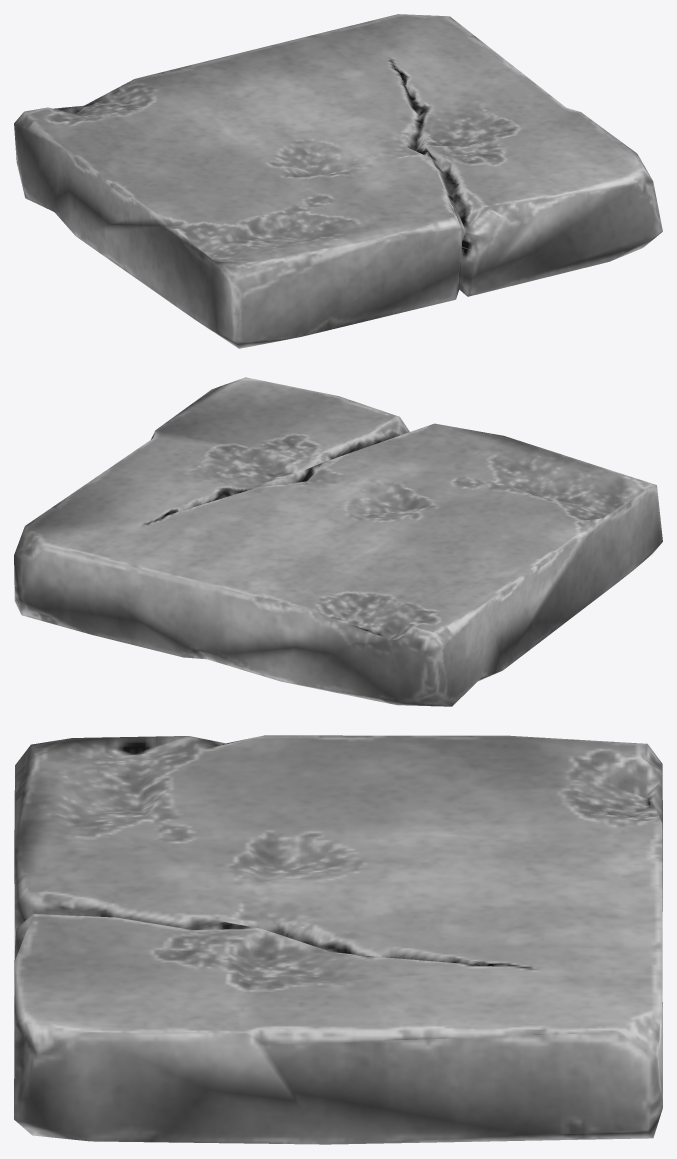
The model's file is SM_TempleTrimMid_Ledge_2.fbx.
The picture shows the model from 3 angles, top to bottom: view 1: azimuth 30°, elevation 25°; view 2: azimuth 150°, elevation 25°; view 3: azimuth 270°, elevation 25°; orthographic projection. The views are drawn at different scales.
Parts seen in each view (by area): view 1: SM_TempleTrimMid_Ledge2_LOD0; view 2: SM_TempleTrimMid_Ledge2_LOD0; view 3: SM_TempleTrimMid_Ledge2_LOD0.
Boxes of the visible parts, bbox=[...] form: SM_TempleTrimMid_Ledge2_LOD0: bbox=[14, 14, 662, 348]; SM_TempleTrimMid_Ledge2_LOD0: bbox=[14, 377, 662, 706]; SM_TempleTrimMid_Ledge2_LOD0: bbox=[14, 735, 662, 1144].
Size of what is drawn, in the model's own units: 131 by 23.32 by 121.
Materials: 1 (1 with a texture image).
